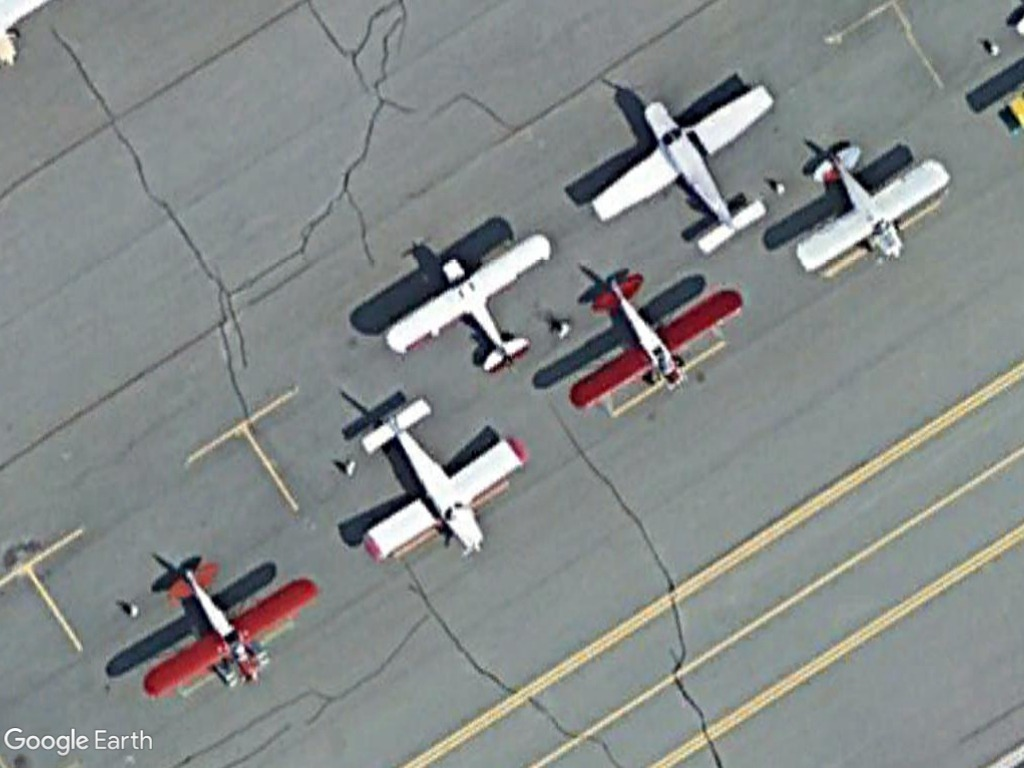trainer: (345, 389, 533, 575), (585, 80, 778, 253), (381, 221, 558, 384), (143, 556, 321, 707), (562, 270, 746, 416), (785, 135, 947, 279)
